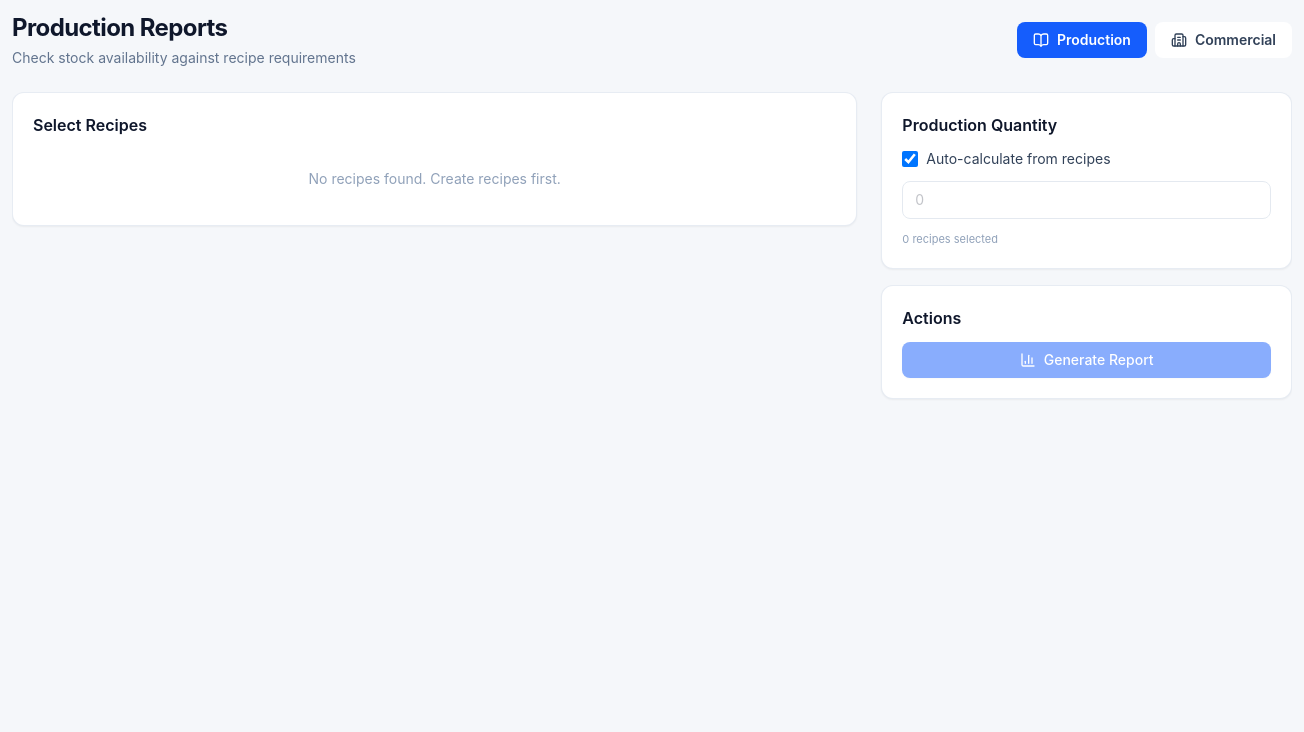
Commercial detail report pagination › detail KPI cards use whole-filter totals from the summary, not the loaded page
The width and height of the screenshot is (1304, 732).
Click the button "Commercial".
click(1223, 40)  # box [1155,22,1292,58]
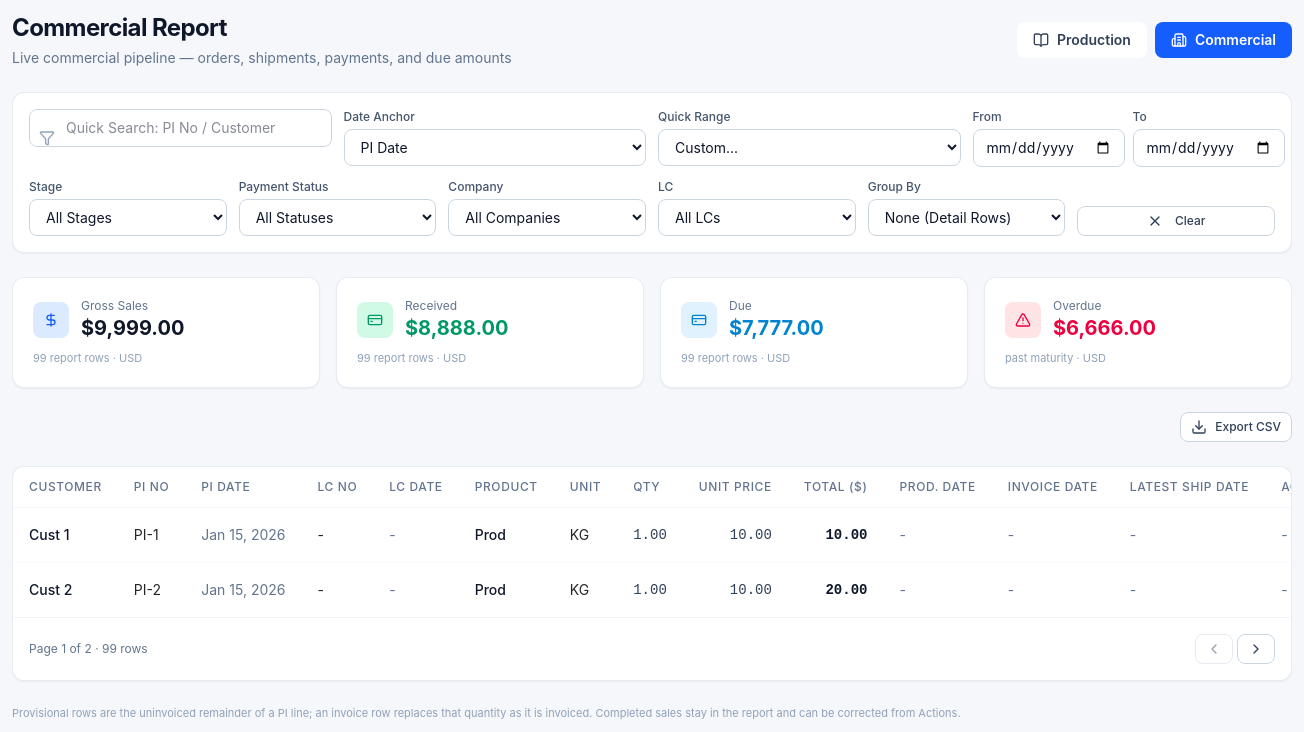
Expected: the text "$9,999.00" is shown, [81,314,184,342]
Expected: the text "99 report rows · USD" is shown 3 times, [33,351,142,365]; [357,351,466,365]; [681,351,790,365]
